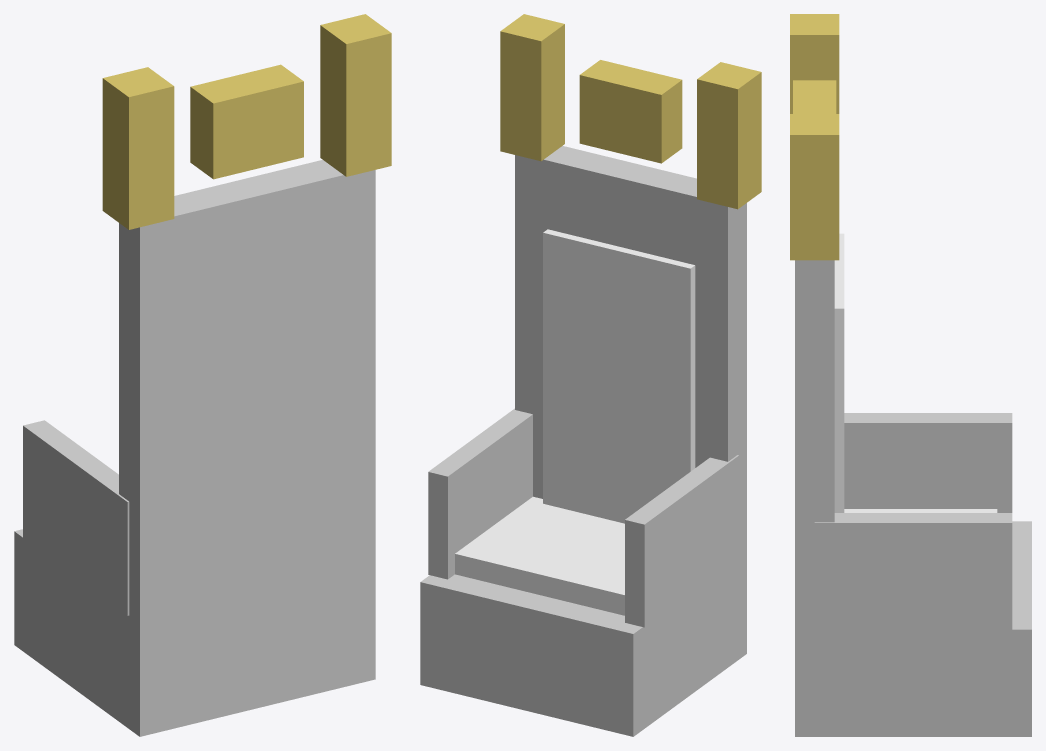
File: throne.glb
The picture shows the model from 3 angles, left to right: view 1: azimuth 30°, elevation 25°; view 2: azimuth 150°, elevation 25°; view 3: azimuth 270°, elevation 25°; orthographic projection. The views are drawn at different scales.
Visible parts, largest first — view 1: Throne; view 2: Throne; view 3: Throne.
Part boxes in pixels (bbox=[...]): Throne: bbox=[14, 14, 391, 736]; Throne: bbox=[420, 14, 761, 736]; Throne: bbox=[790, 14, 1031, 736].
Bounding box in the file's own units: 1.45 × 3.4 × 1.23.
